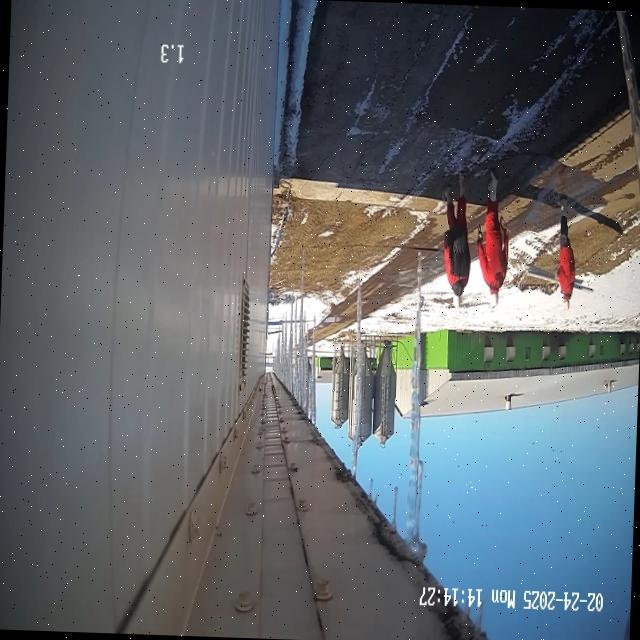Red uniform: (477, 169, 508, 304), (442, 173, 470, 298), (555, 200, 574, 309)
